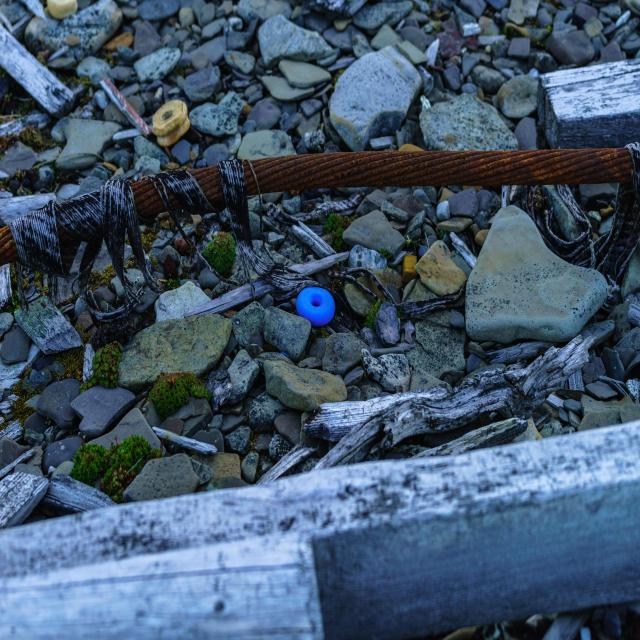litter: (277, 270, 345, 343), (136, 84, 199, 161)
